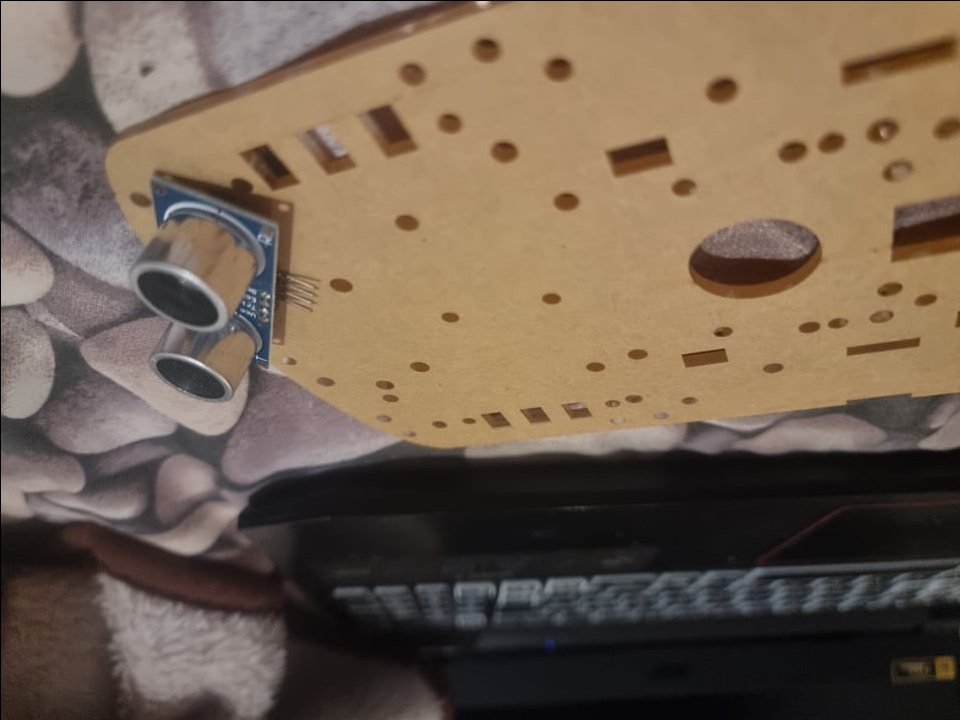SENSOR: (129, 174, 274, 405)
